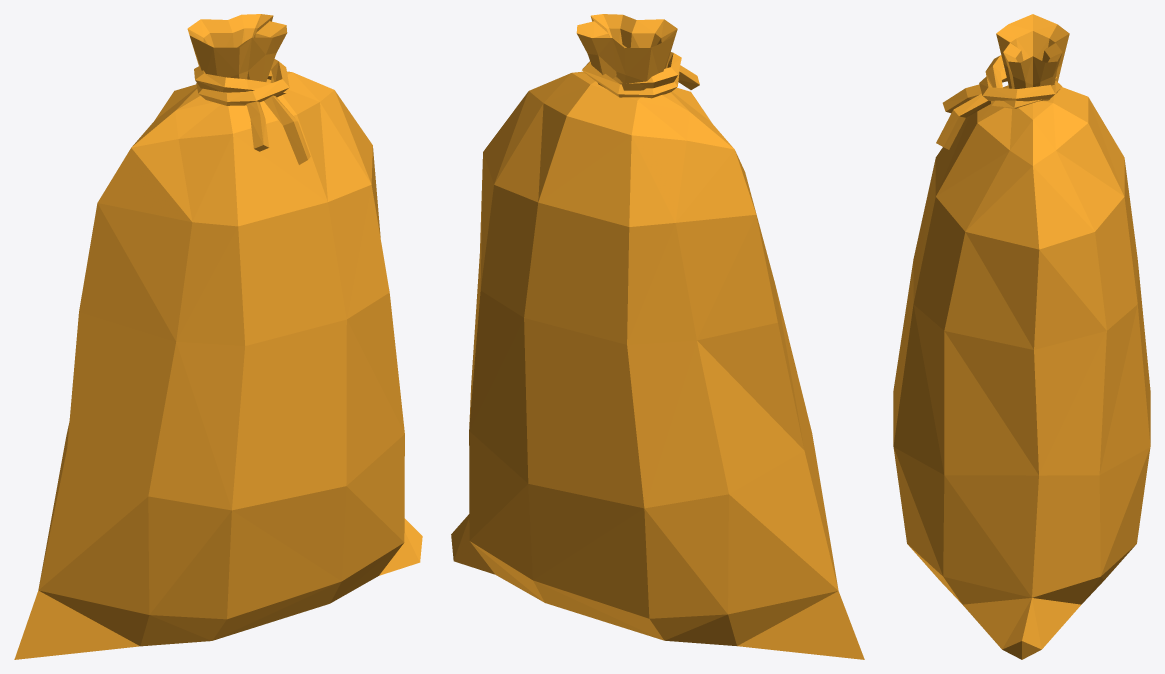
The model's file is SM_Bag_Tied_Farm.fbx.
The picture shows the model from 3 angles, left to right: view 1: azimuth 30°, elevation 25°; view 2: azimuth 150°, elevation 25°; view 3: azimuth 270°, elevation 25°; orthographic projection. The views are drawn at different scales.
Parts seen in each view (by area): view 1: bag-tied-farm; view 2: bag-tied-farm; view 3: bag-tied-farm.
Boxes of the visible parts, <box> form: bag-tied-farm: <box>14,14,422,659</box>; bag-tied-farm: <box>451,14,864,659</box>; bag-tied-farm: <box>893,14,1150,659</box>.
Size of the model in its own units: 0.6185 by 0.8341 by 0.3566.
